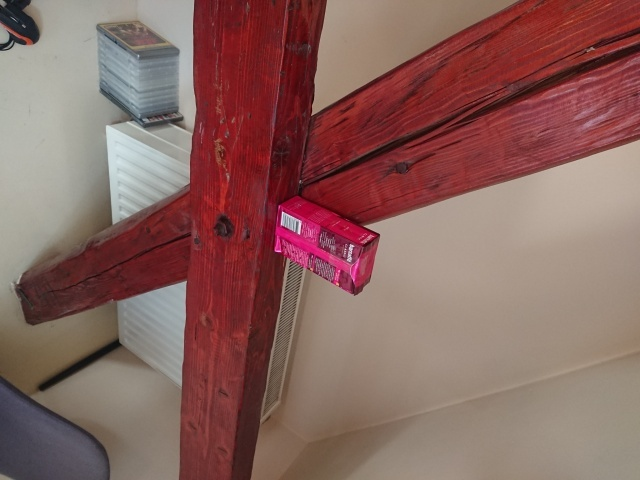Barcaffe Classic Original 225g: (271, 194, 382, 297)
